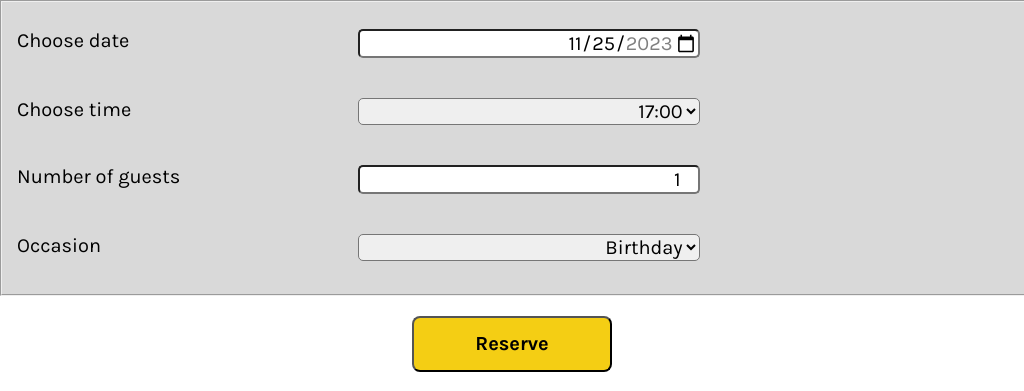
Checks guests validation - too few
Type "0" into the number field labelled "Number of guests" at (529, 180), box [358,165,700,194]
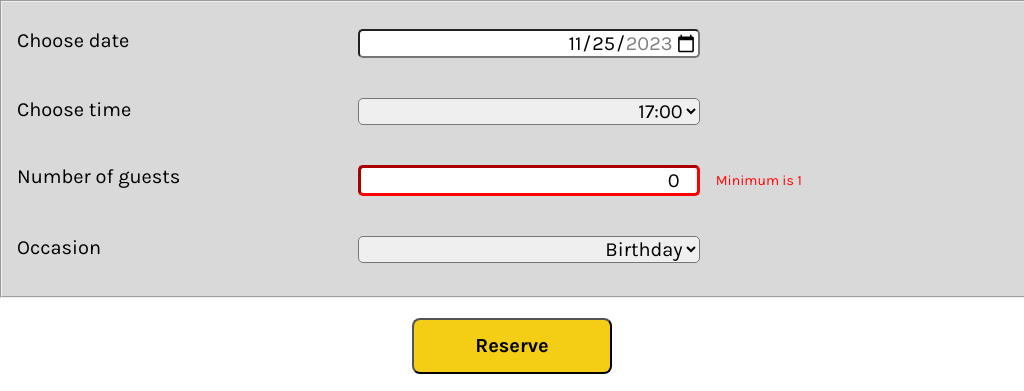
Expected: the text with test id "select-guests-error" reads "Minimum is 1", [716,172,802,189]
